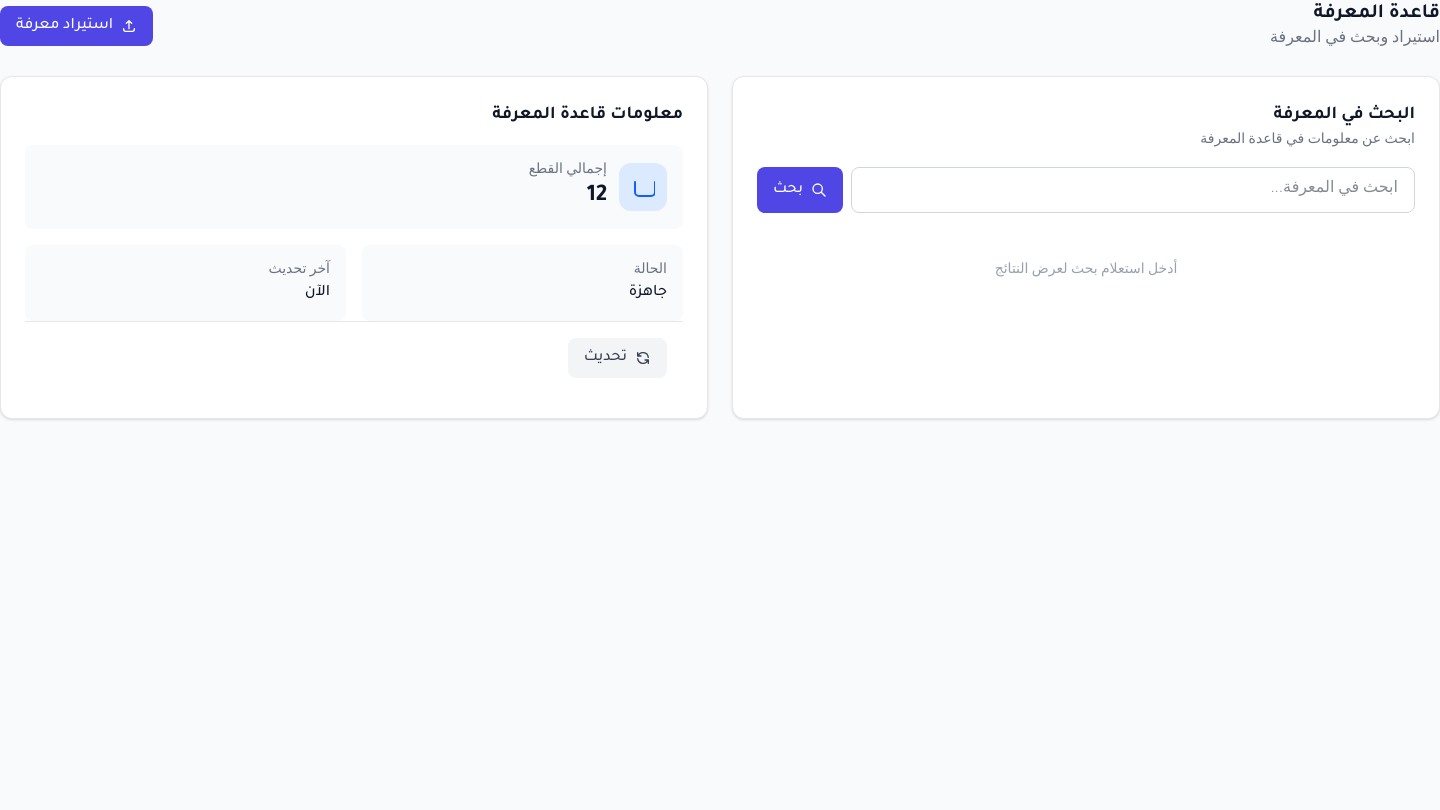
Test: KnowledgeTab › closes import modal via cancel and X
Click the button "استيراد معرفة" at (77, 26), box [0,6,153,46]
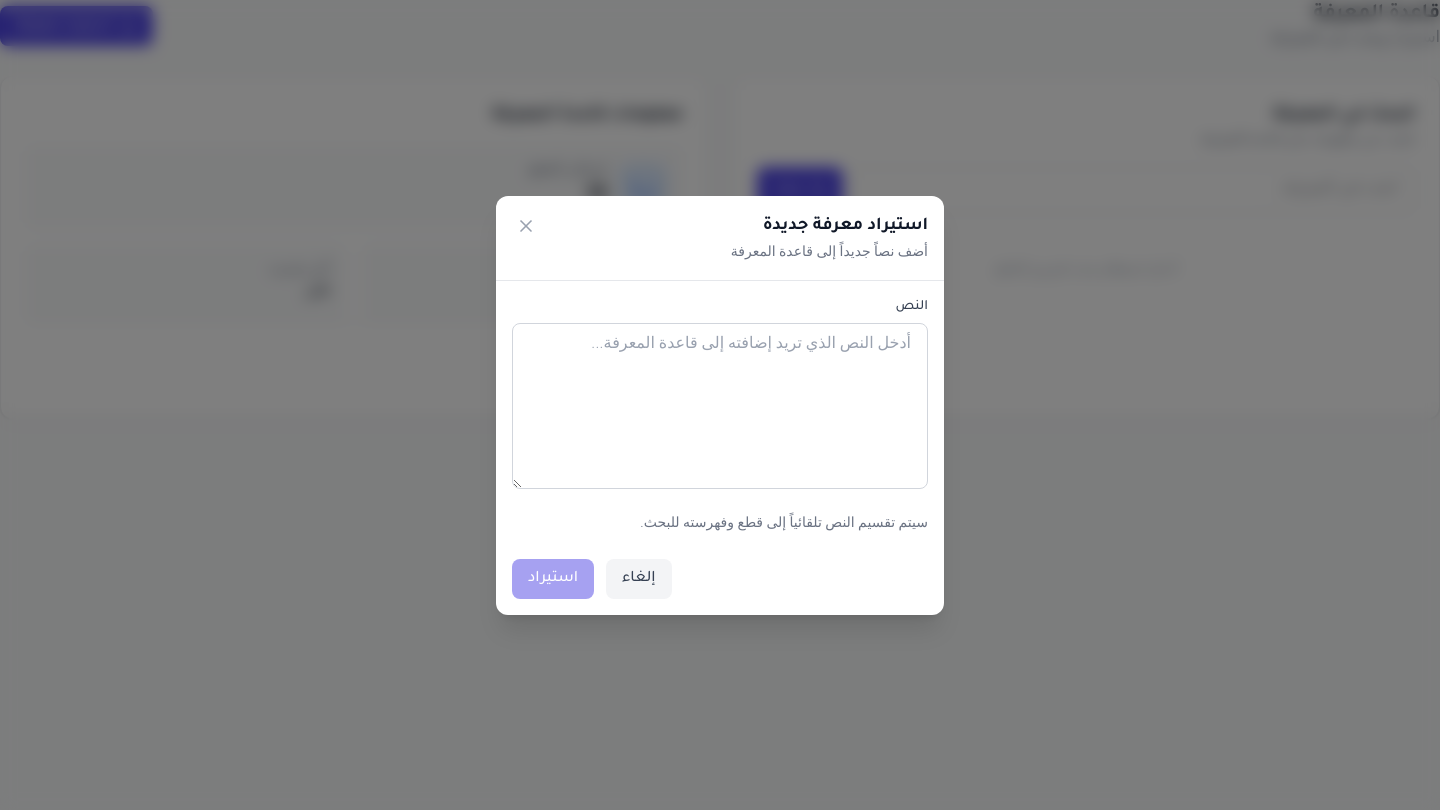
Result: the heading "استيراد معرفة جديدة" is shown at [763,216,928,234]
Click the button "إلغاء" at (639, 578), box [606,558,672,598]
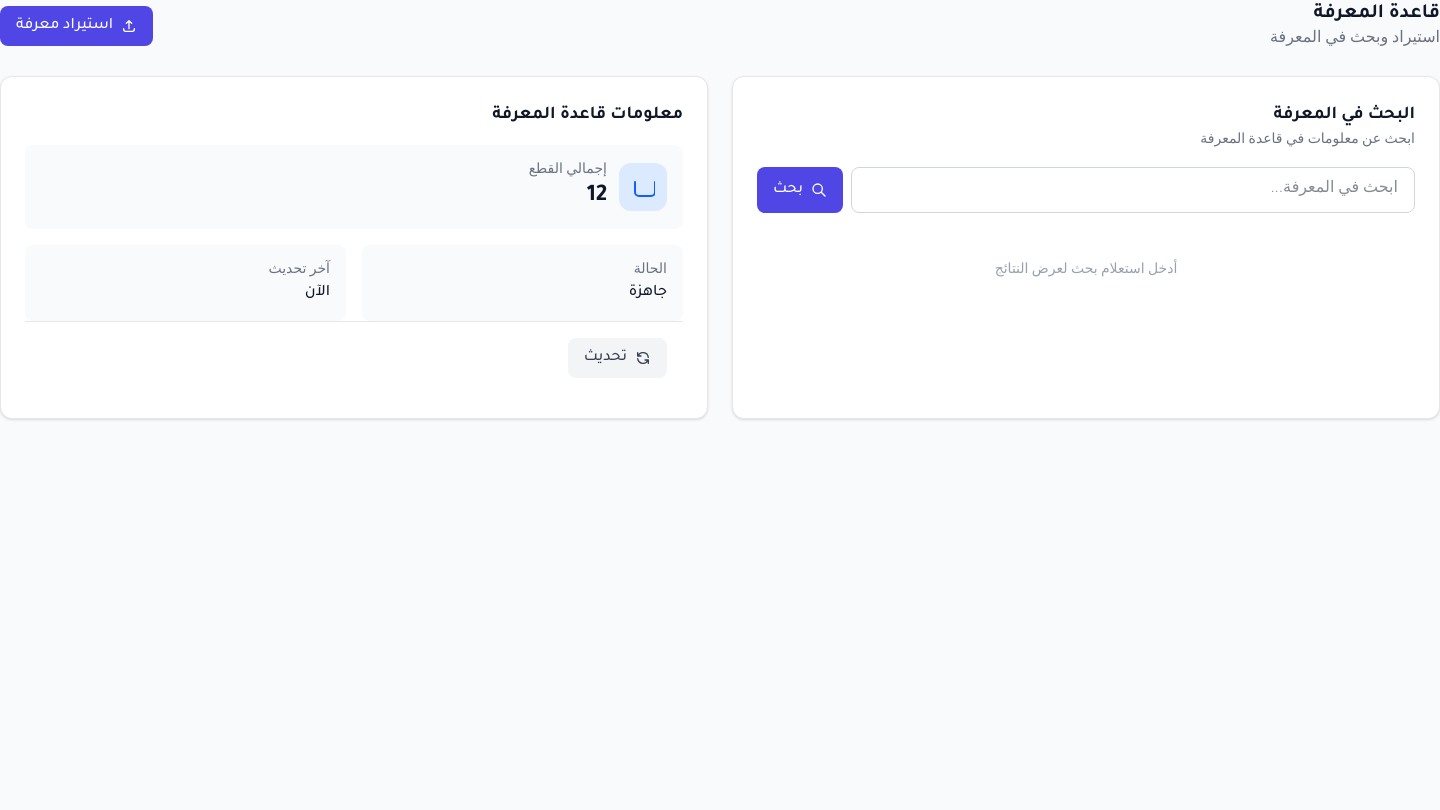
Result: the heading "استيراد معرفة جديدة" is gone
Click the button "استيراد معرفة" at (77, 26), box [0,6,153,46]
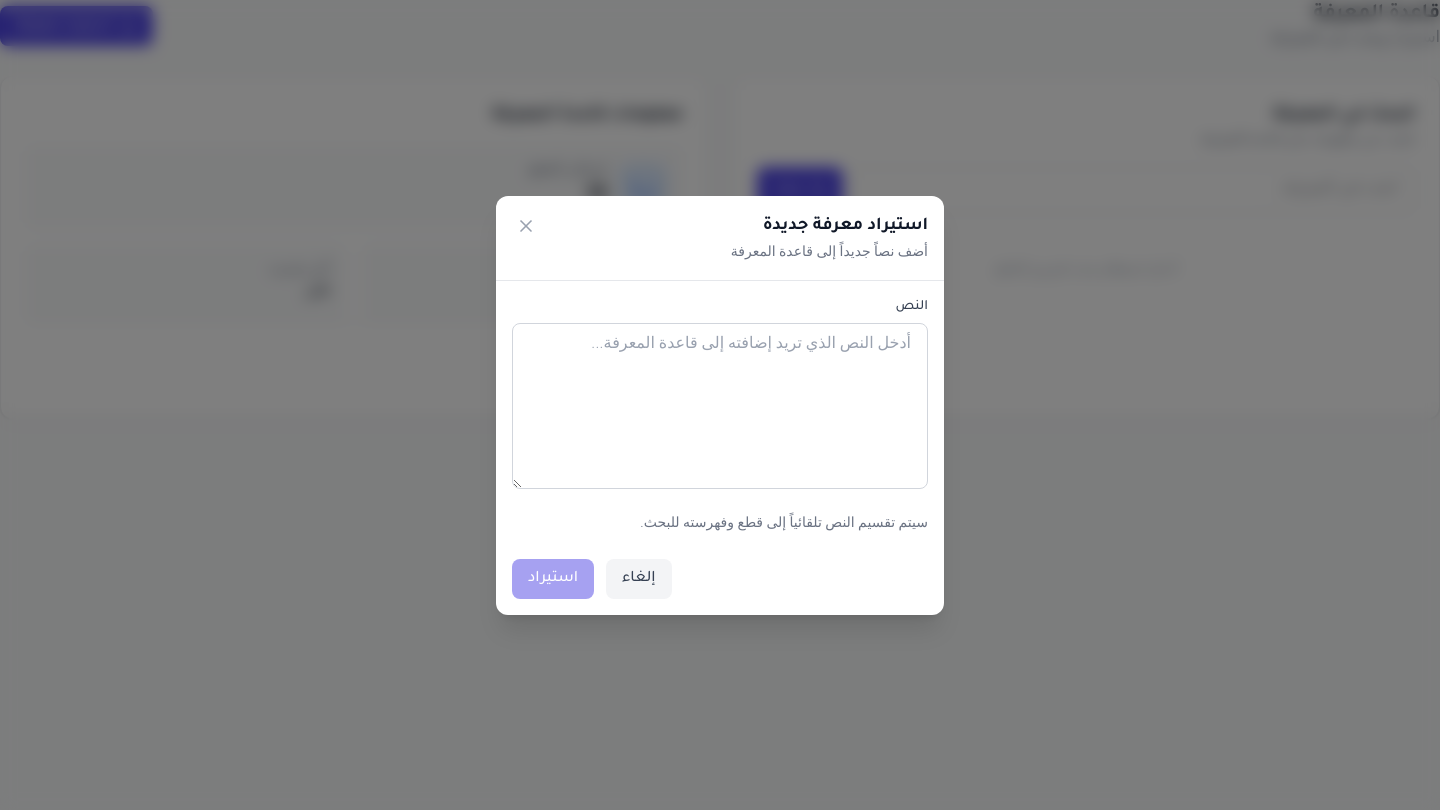
Click the button named "إغلاق" at (526, 226), box [512,212,540,240]
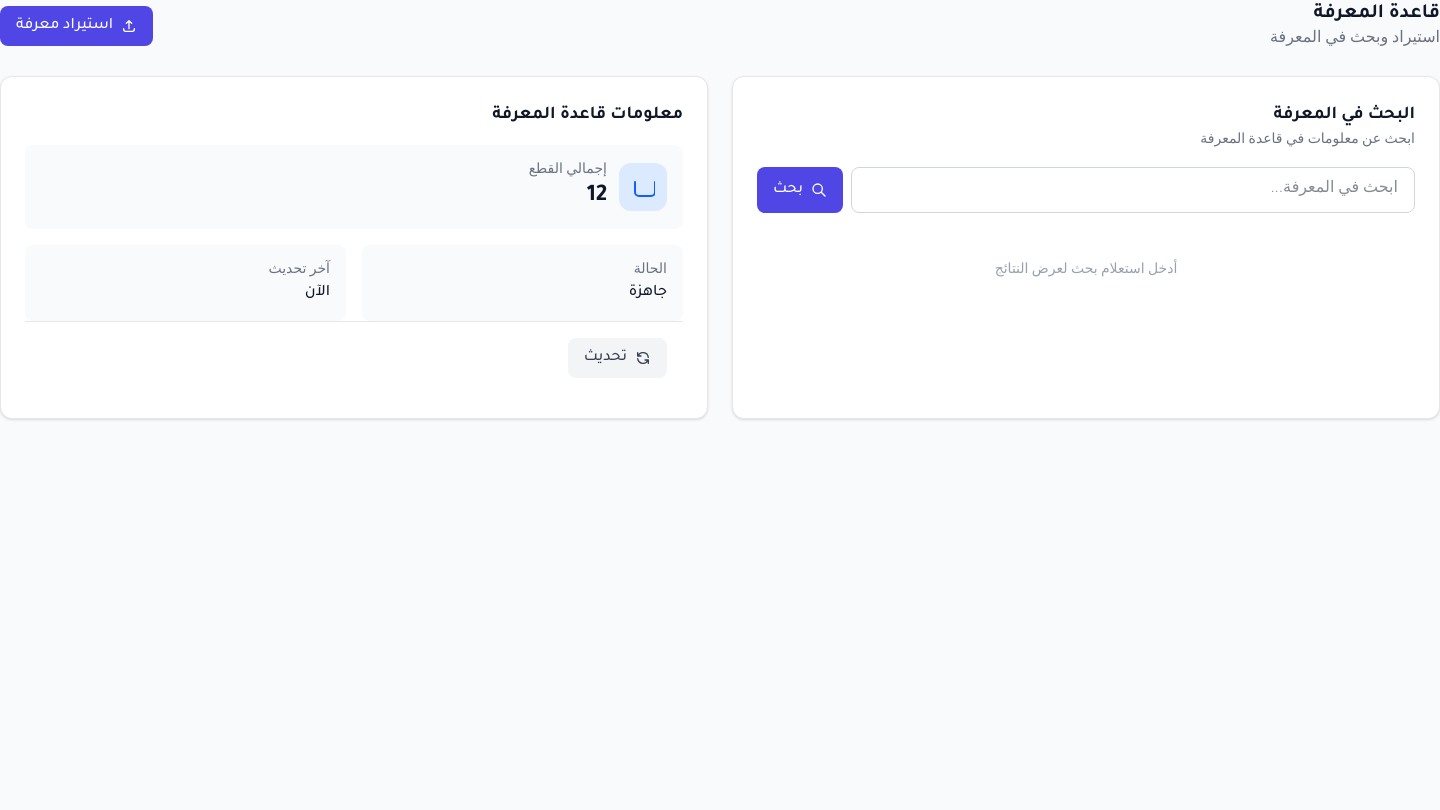
Result: the heading "استيراد معرفة جديدة" is gone
